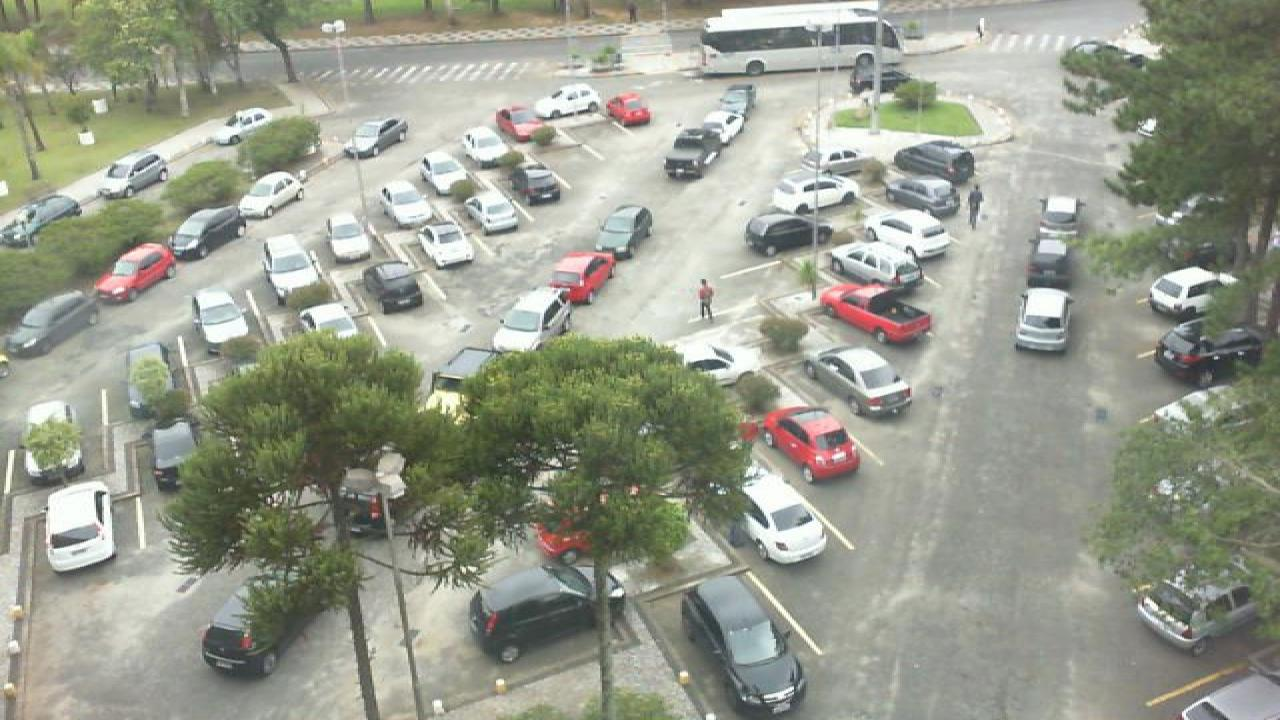Car: (678, 570, 808, 716), (466, 556, 630, 662), (1138, 565, 1260, 656), (732, 463, 830, 566), (804, 344, 916, 418), (764, 404, 862, 484), (40, 479, 120, 574), (820, 279, 934, 345), (1152, 320, 1262, 388), (200, 596, 290, 678), (4, 290, 100, 359), (18, 398, 86, 486), (488, 287, 576, 351), (818, 240, 924, 288), (94, 242, 176, 304), (1148, 264, 1238, 320), (864, 208, 956, 260), (188, 287, 252, 360), (166, 206, 248, 262), (0, 195, 82, 248), (742, 210, 832, 256), (148, 417, 202, 493), (1180, 679, 1280, 720), (1012, 286, 1074, 352), (260, 233, 322, 298), (770, 170, 860, 214), (122, 342, 178, 412), (548, 251, 616, 308), (662, 125, 728, 182), (882, 176, 960, 224), (892, 140, 976, 184), (592, 204, 654, 263), (236, 171, 308, 219), (432, 346, 502, 395), (96, 151, 170, 197), (358, 261, 422, 313), (670, 340, 740, 386), (376, 179, 436, 232), (446, 181, 508, 231), (342, 116, 410, 161), (416, 219, 478, 268), (1024, 236, 1076, 290), (206, 106, 274, 147), (1066, 38, 1148, 71), (794, 147, 872, 181), (324, 214, 376, 264), (420, 148, 474, 196), (532, 82, 602, 119), (508, 162, 564, 206), (294, 318, 354, 356), (492, 107, 550, 146), (458, 126, 508, 168), (1036, 194, 1080, 240), (700, 110, 750, 146), (602, 91, 652, 127), (848, 66, 908, 96), (716, 84, 756, 118)
